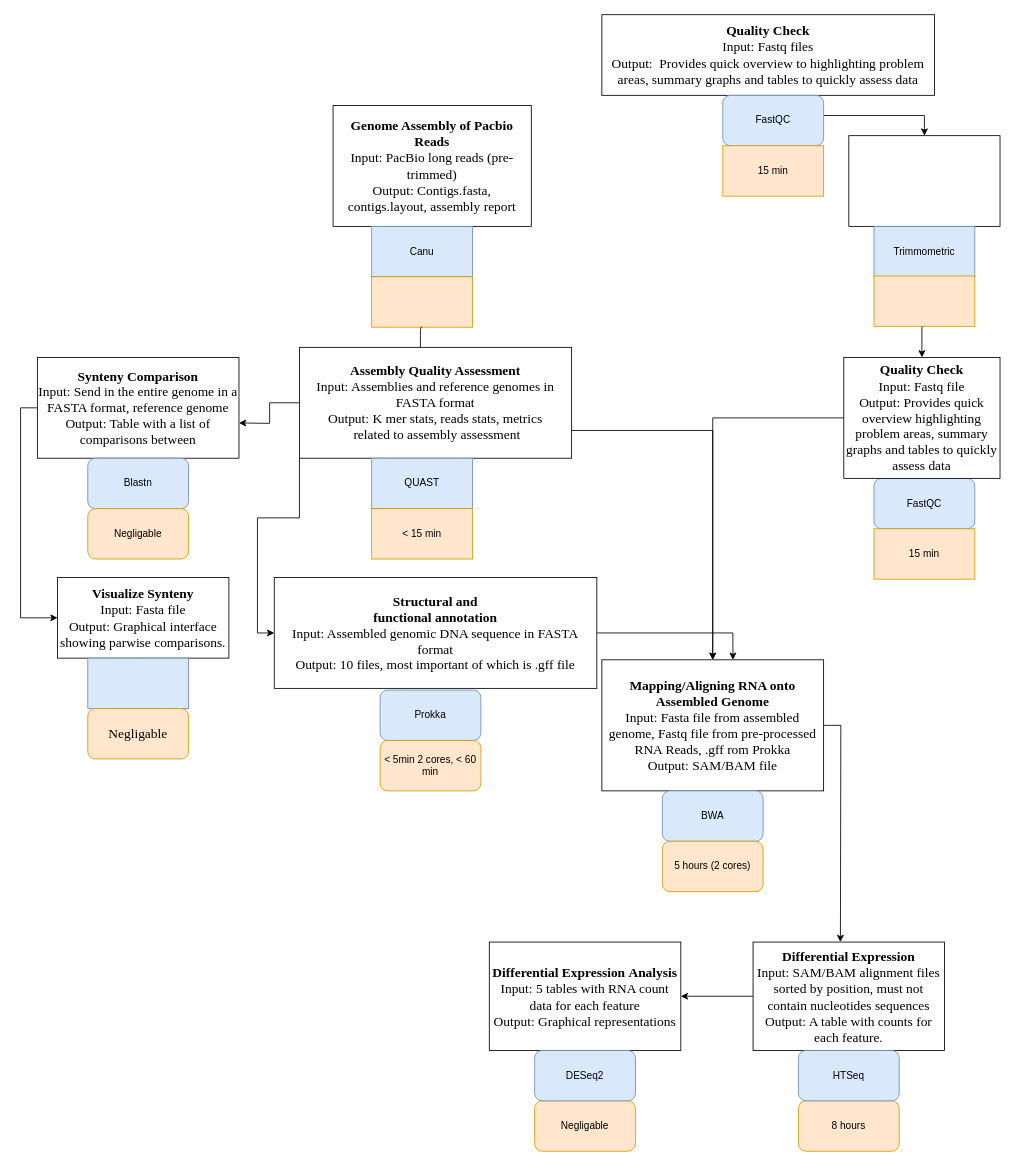
The diagram is 1015 pixels wide and 1166 high, and some of its shapes have lost their labels. The shapes that lost their labels are listed below. From the top down, each one's box as (x1, y1, x2, y2) in pixels, then its label:
(848, 135, 1000, 226): RNA: Reads Pre-Processing Input: Illumina Fastq data Output: New Fastq files
(371, 276, 472, 327): 11.5 Hours
(873, 275, 975, 326): 15 min per file (2 cores)
(87, 657, 189, 709): Artemis
